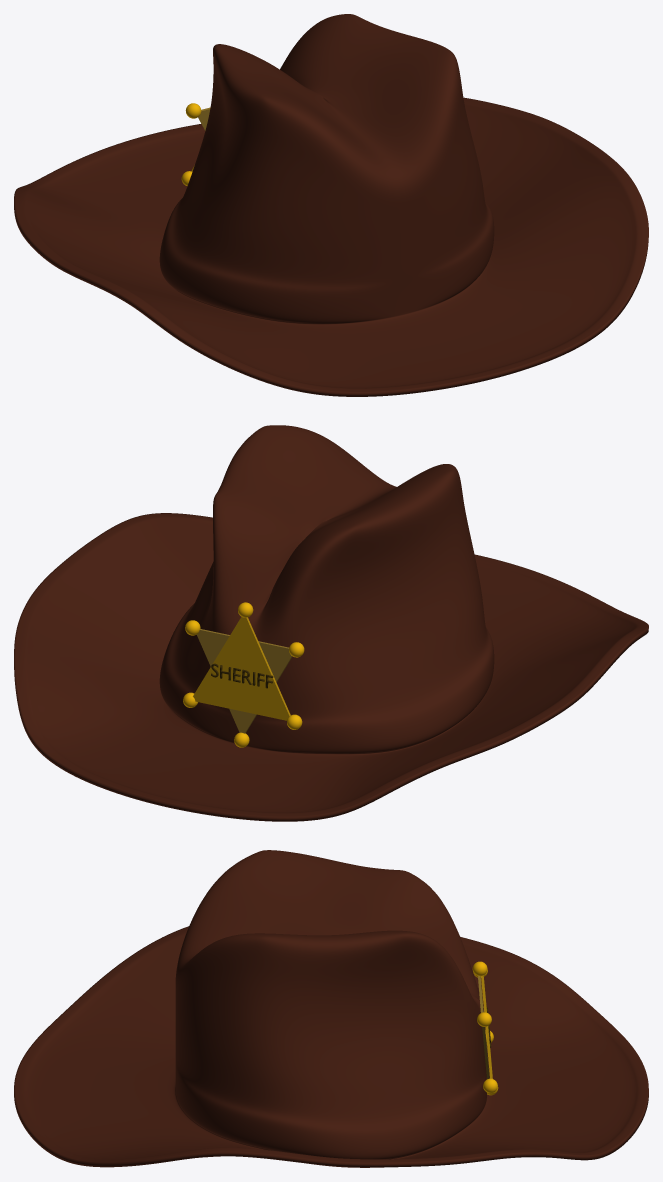
Rendered from WildWest_Figur_Bishop.fbx.
3 views of the same model, one above another, from view 1: azimuth 30°, elevation 25°; view 2: azimuth 150°, elevation 25°; view 3: azimuth 270°, elevation 25° (orthographic). The views are drawn at different scales.
Parts seen in each view (by area): view 1: Circle; view 2: Circle; view 3: Circle.
Boxes of the visible parts, x1,y1,x2,y2 form: Circle: (14,14,648,396); Circle: (14,425,648,821); Circle: (14,850,648,1167).
Size of the model in its own units: 368 by 149 by 405.
